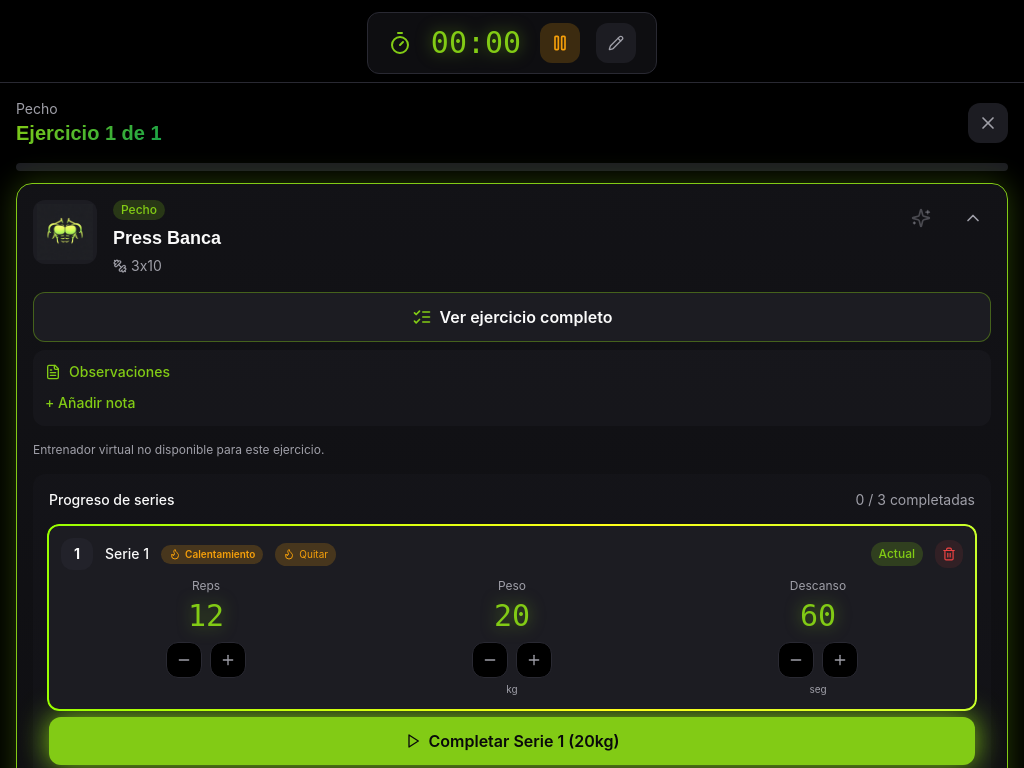
Test: vista del ejercicio completo durante la ejecución › al inicio muestra todas las series, 0 de Y, primera Siguiente y resto Pendiente
The image size is (1024, 768).
What coordinates should you click on to do the following:
click the button "Ver ejercicio completo"
I would click on:
 (512, 317)
Its box is [33, 292, 991, 342].
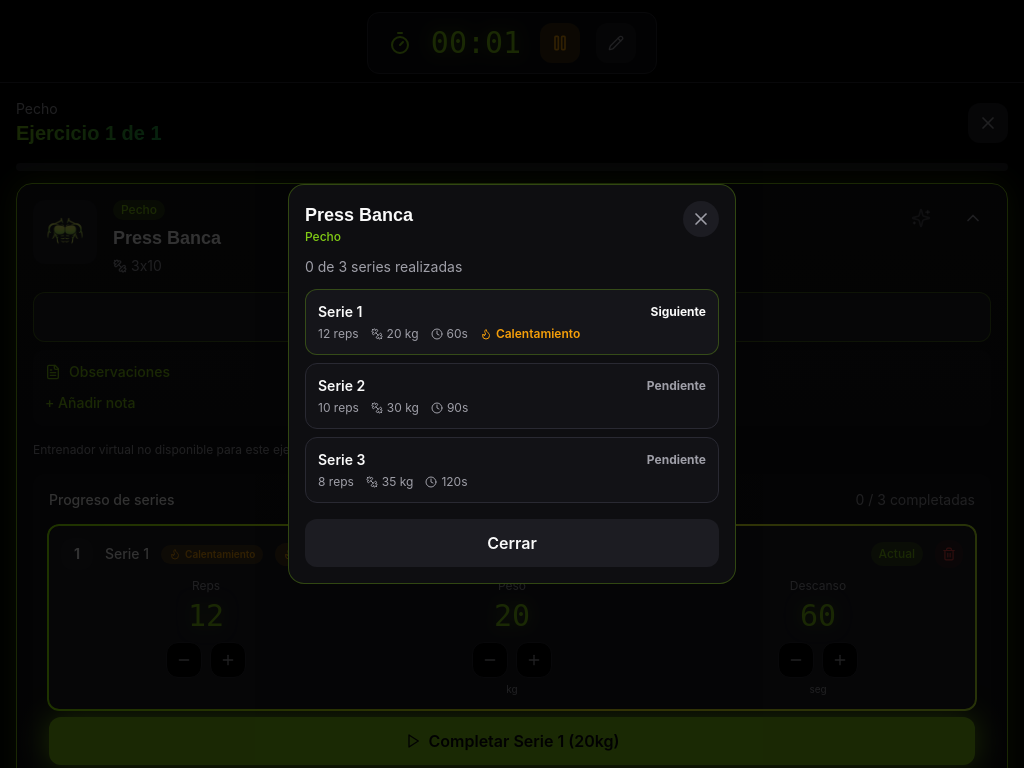
Expected: the text "0 de 3 series realizadas" is shown, [305, 258, 462, 275]
Expected: the element with test id "plan-set-1" shows "Siguiente", [650, 304, 706, 319]
Expected: the element with test id "plan-set-1" shows "Calentamiento", [496, 326, 580, 341]
